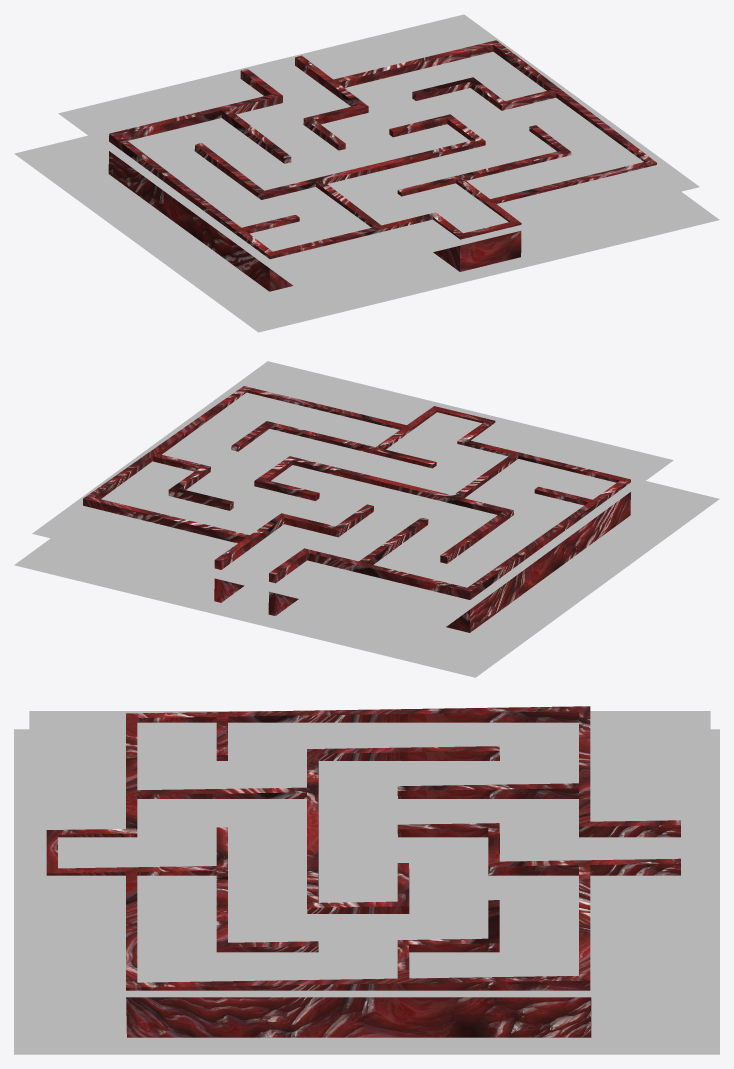
File: maze_lev01.fbx
The picture shows the model from 3 angles, top to bottom: view 1: azimuth 30°, elevation 25°; view 2: azimuth 150°, elevation 25°; view 3: azimuth 270°, elevation 25°; orthographic projection. The views are drawn at different scales.
Parts seen in each view (by area): view 1: ceiling, maze, floor; view 2: ceiling, maze, floor; view 3: ceiling, maze, floor.
Boxes of the visible parts, bbox=[...] form: ceiling: bbox=[58, 14, 699, 285]; maze: bbox=[108, 40, 656, 291]; floor: bbox=[14, 135, 719, 332]; ceiling: bbox=[32, 361, 673, 632]; maze: bbox=[83, 386, 630, 632]; floor: bbox=[14, 481, 719, 677]; ceiling: bbox=[29, 711, 710, 997]; maze: bbox=[46, 706, 680, 1037]; floor: bbox=[14, 729, 719, 1054].
Size of the model in its own units: 0.2301 by 0.0233 by 0.211.
